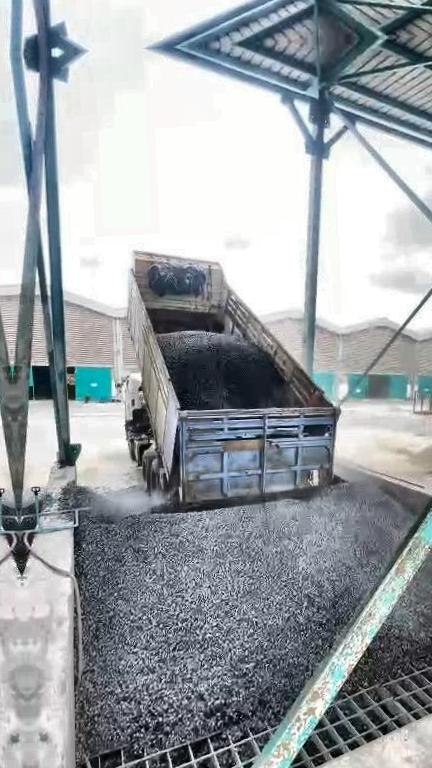gravel: (58, 471, 425, 755), (346, 520, 432, 688), (159, 331, 293, 409), (18, 498, 36, 575)
sand: (368, 440, 432, 493)
